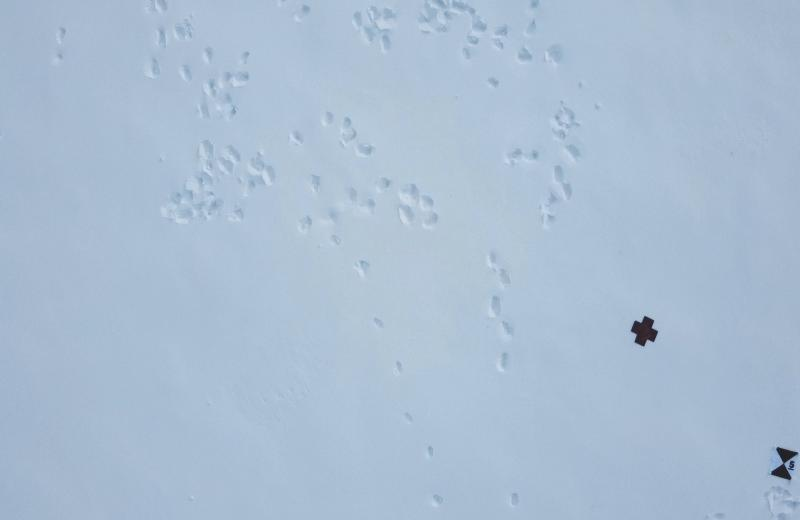Cross: (628, 313, 658, 349)
